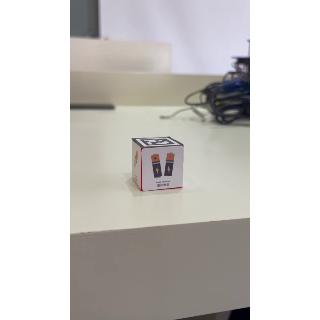Used_Battery: (142, 148, 186, 190)
